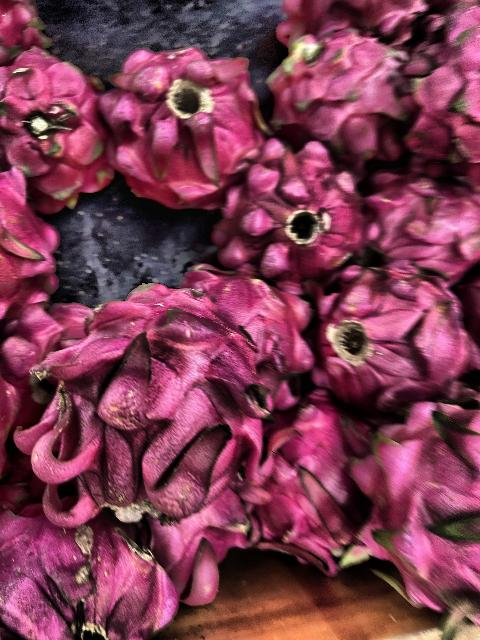buah-naga-matang: (38, 280, 272, 530), (354, 388, 480, 630), (95, 48, 265, 198), (0, 496, 168, 640), (320, 272, 480, 406), (226, 138, 370, 278), (249, 391, 357, 567), (0, 58, 120, 198), (279, 35, 398, 157), (368, 170, 480, 280), (1, 180, 57, 398), (416, 1, 480, 186)
